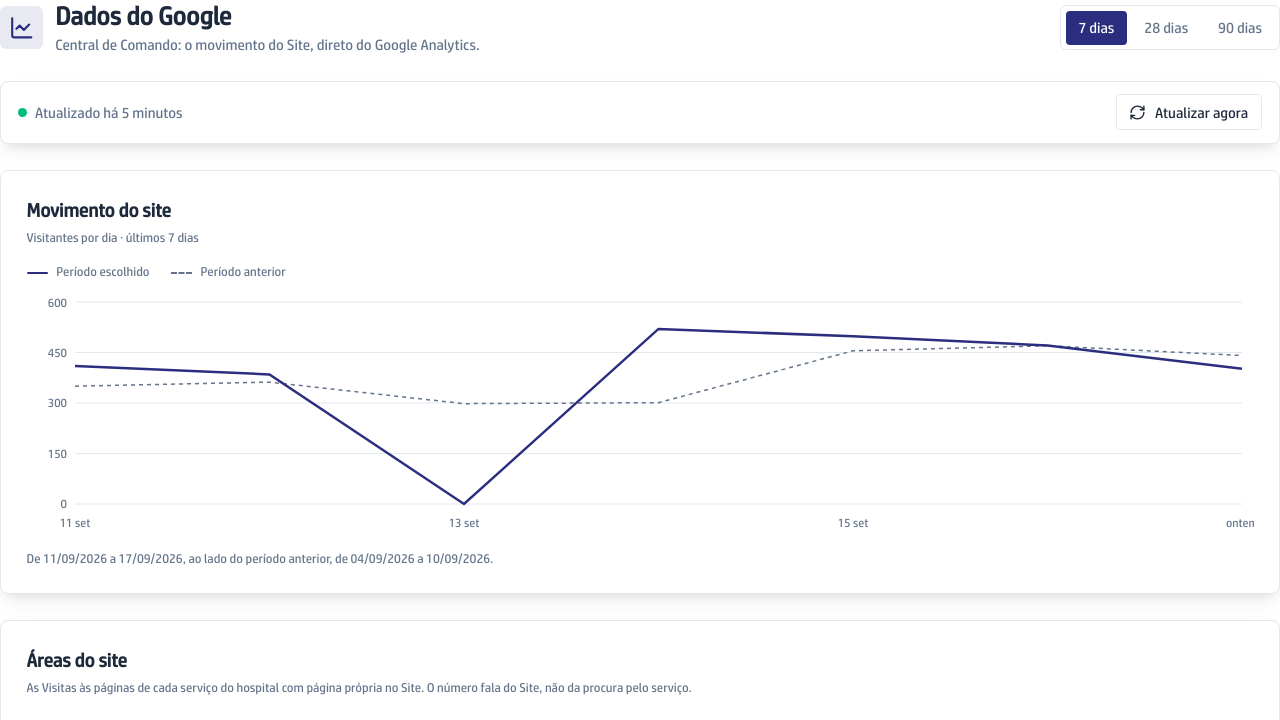
Scenario: Dados do Google: Áreas do site, Origem do público e Contatos gerados › o Atualizar agora troca os três blocos pelos números novos
Expected: the heading "Áreas do site" is shown, [26,649,127,671]
Click the button "Atualizar agora".
click(1189, 112)  # box [1116,94,1262,130]
(page scrolled)
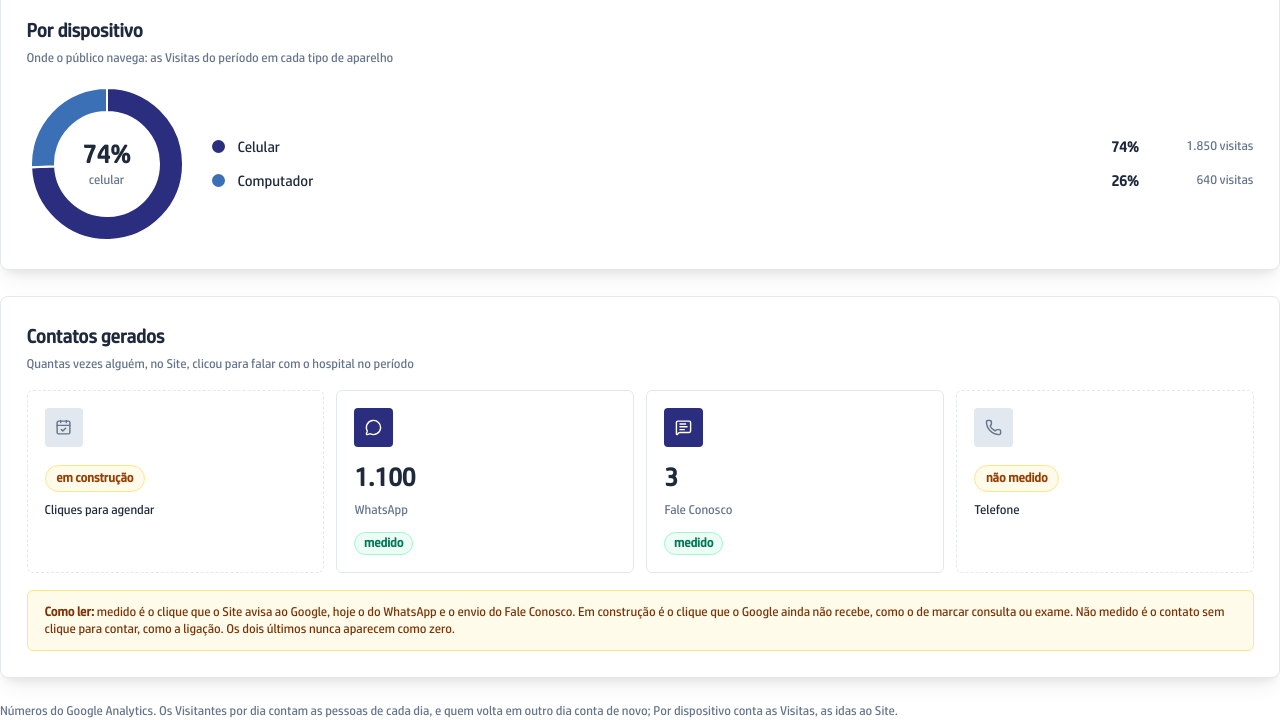
Result: the list item "3 Fale Conosco medido" is shown at [646,390,944,573]
